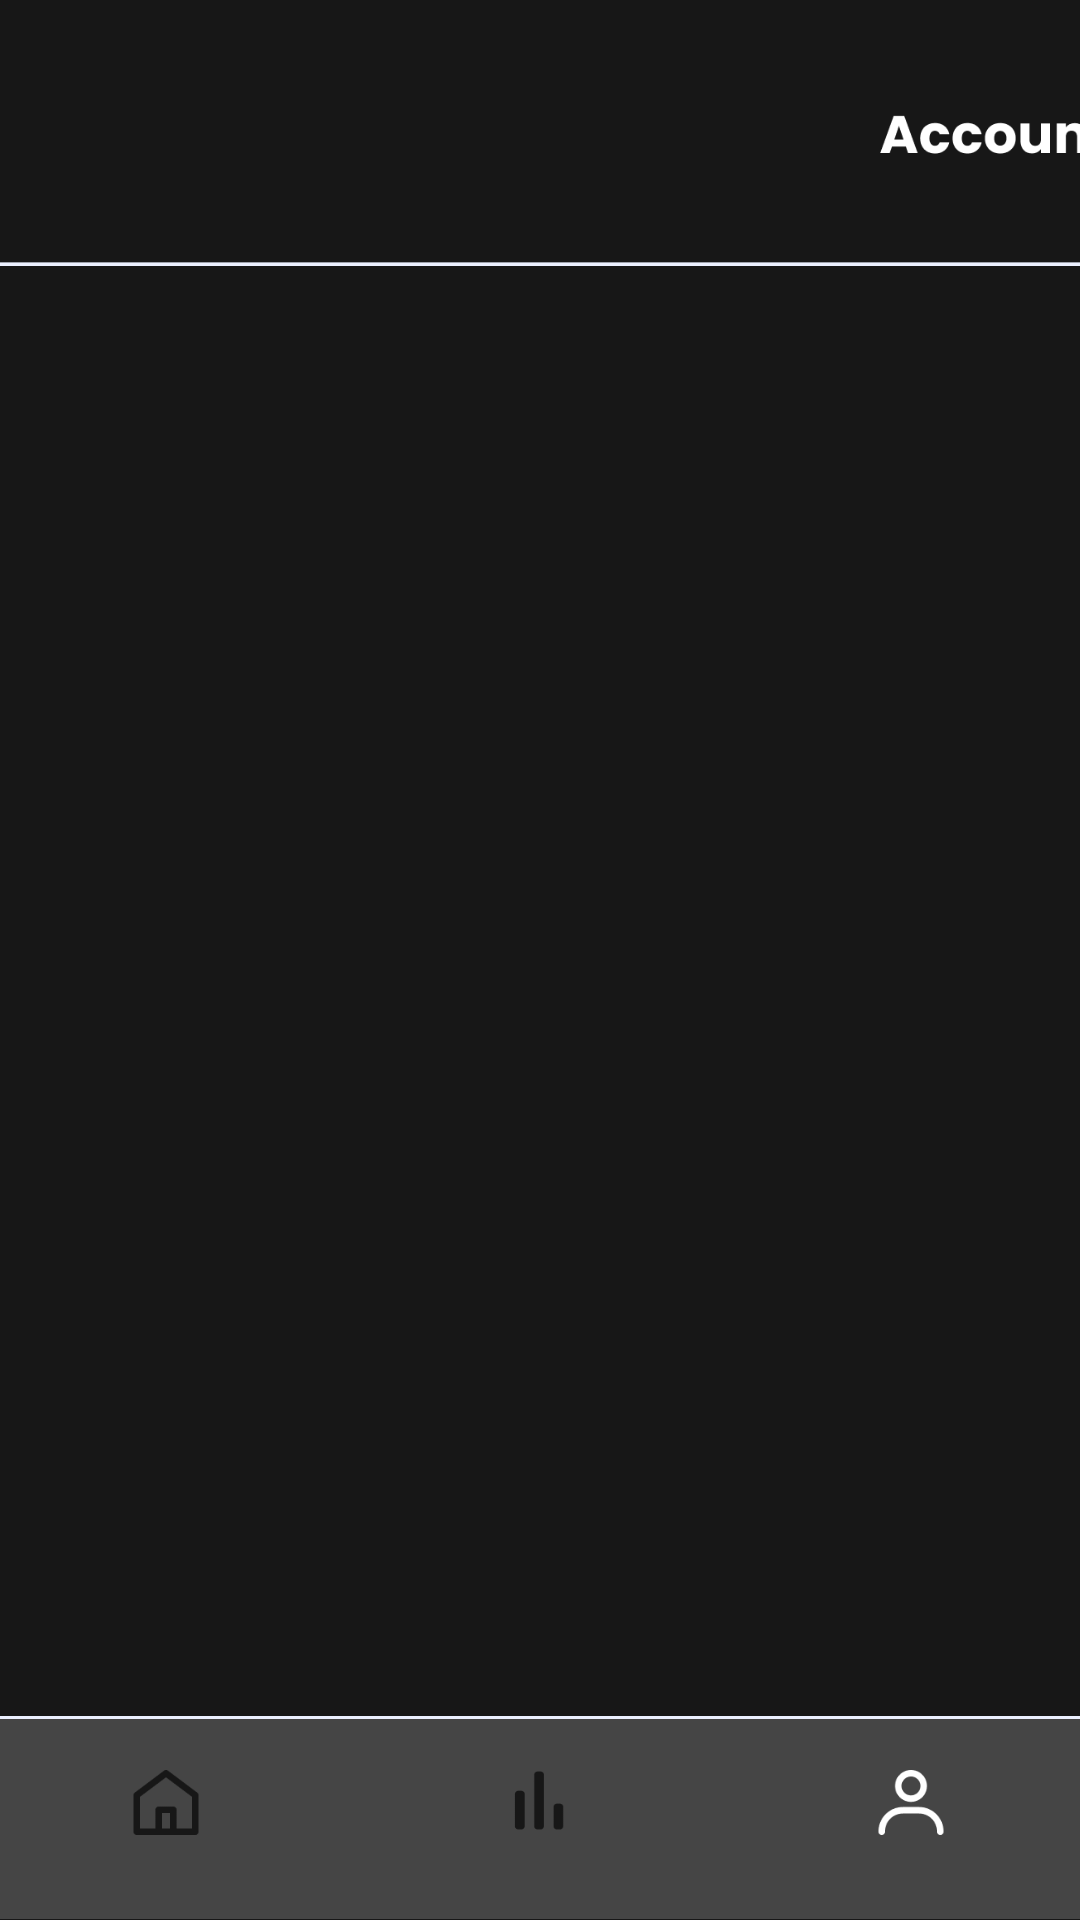

Icons on this 1080×1920 Android screen, each with the point to tap as (x=x, y=y):
home: (x=166, y=1802)
stats: (x=539, y=1800)
user: (x=911, y=1802)
